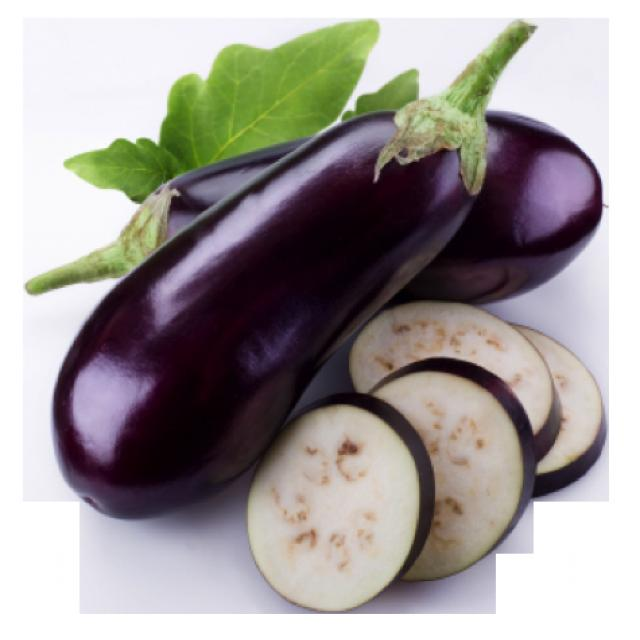Eggplant: (52, 95, 477, 524)
